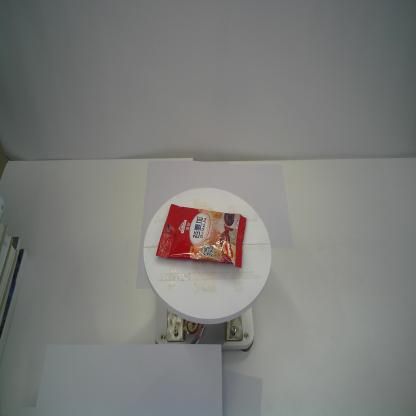Instant Drink: (156, 203, 247, 269)
